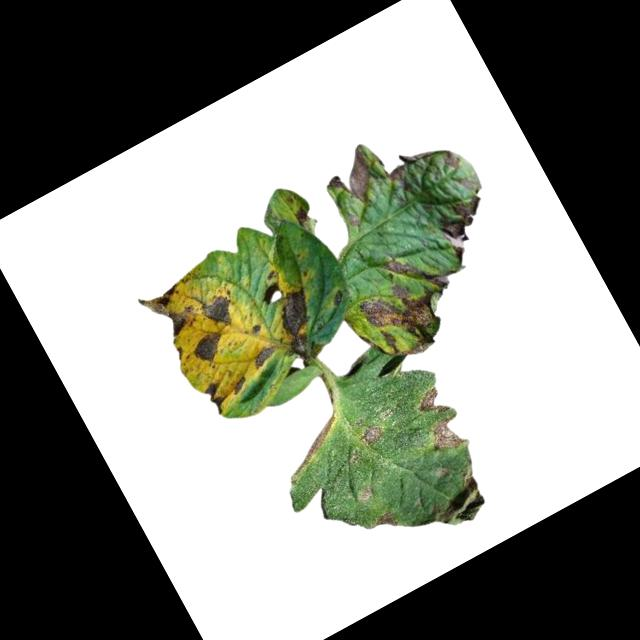Early_blight: (342, 235, 483, 371), (413, 464, 497, 543), (262, 284, 336, 370), (134, 273, 207, 347), (433, 192, 505, 266), (279, 412, 352, 475), (319, 147, 383, 214), (426, 414, 470, 459), (198, 289, 242, 333), (187, 328, 231, 369), (413, 384, 453, 424), (200, 380, 232, 418), (246, 341, 282, 373), (357, 422, 386, 451), (372, 509, 400, 535), (383, 161, 410, 187), (440, 148, 465, 174), (228, 375, 252, 398), (291, 204, 313, 227), (327, 290, 349, 310), (251, 324, 263, 336)
